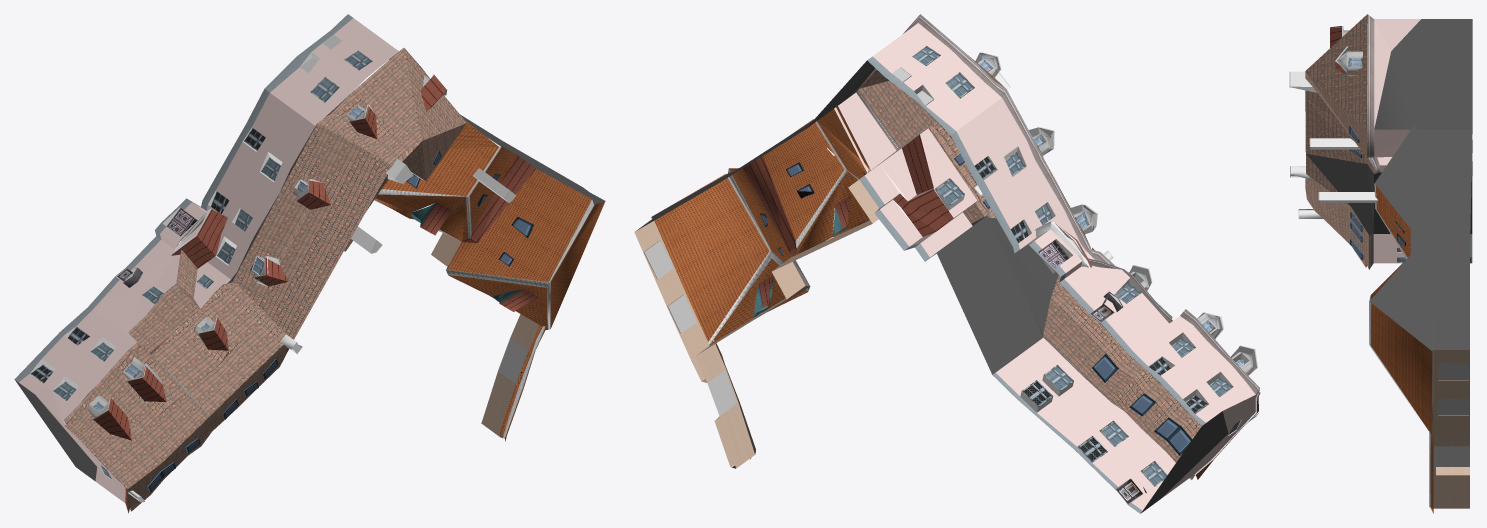
The model's file is Toom-Ryytli-4-origo.obj.
3 renders of one model, left to right at view 1: azimuth 30°, elevation 25°; view 2: azimuth 150°, elevation 25°; view 3: azimuth 270°, elevation 25°, orthographic. The views are drawn at different scales.
Visible parts, largest first — view 1: Toom_Ryytli_4; view 2: Toom_Ryytli_4; view 3: Toom_Ryytli_4.
Part boxes in pixels (x1=…): Toom_Ryytli_4: x1=14, y1=14, x2=605, y2=513; Toom_Ryytli_4: x1=634, y1=14, x2=1260, y2=513; Toom_Ryytli_4: x1=1289, y1=14, x2=1472, y2=513.
Size of the model in its own units: 49.81 by 37.5 by 14.29.
